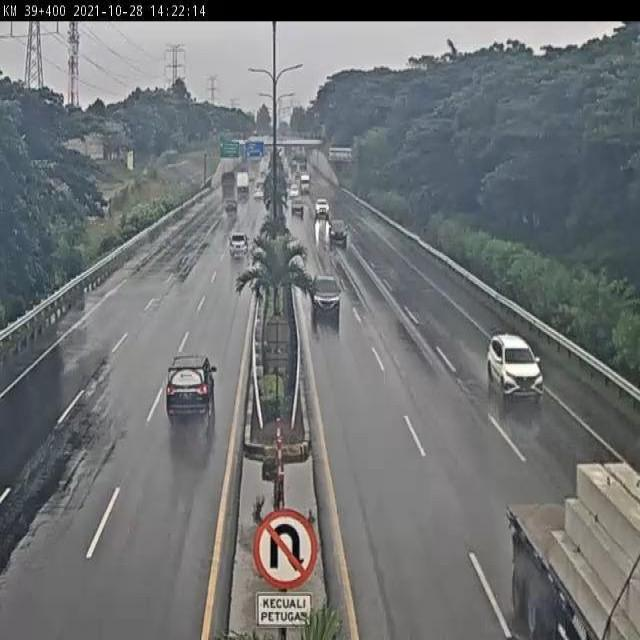big truck: (501, 437, 640, 640)
car: (482, 331, 547, 405), (161, 349, 218, 432), (308, 271, 344, 325), (227, 230, 250, 266), (215, 197, 238, 224), (328, 218, 348, 246), (312, 197, 330, 223), (289, 197, 305, 219)
